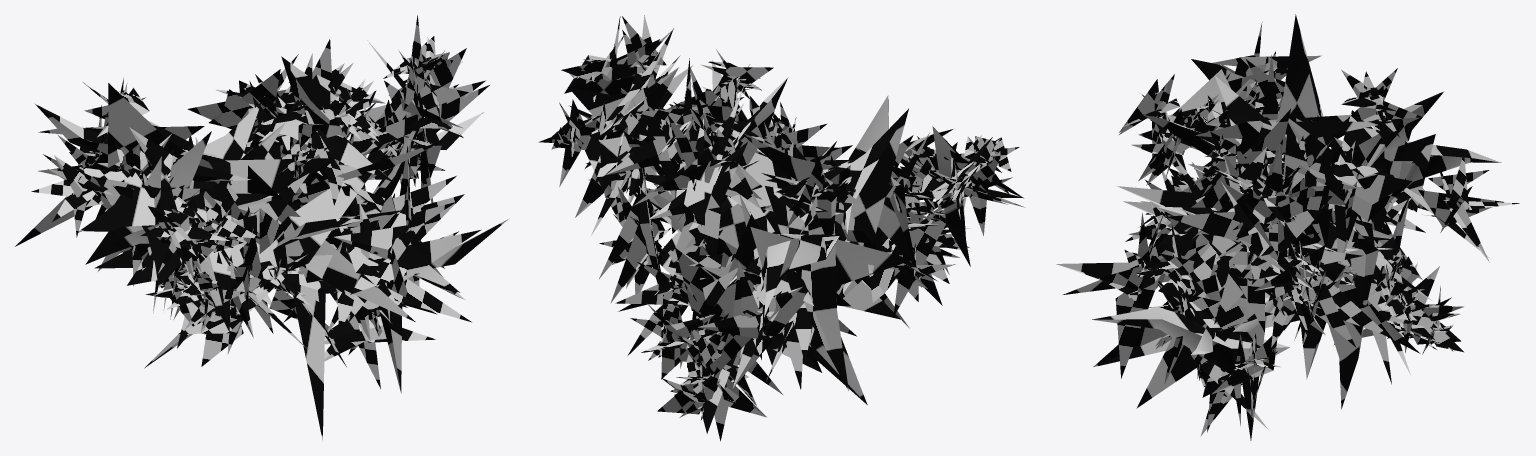
Rendered from ice_meteoroid.obj.
3 views of the same model, side by side, from view 1: azimuth 30°, elevation 25°; view 2: azimuth 150°, elevation 25°; view 3: azimuth 270°, elevation 25° (orthographic). The views are drawn at different scales.
Parts seen in each view (by area): view 1: meteoroid; view 2: meteoroid; view 3: meteoroid.
Part boxes in pixels (bbox=[...]): meteoroid: bbox=[15, 15, 509, 441]; meteoroid: bbox=[538, 15, 1025, 441]; meteoroid: bbox=[1056, 14, 1519, 440].
Bounding box in the file's own units: 128 × 91.9 × 120.
1 material, 1 textured.
